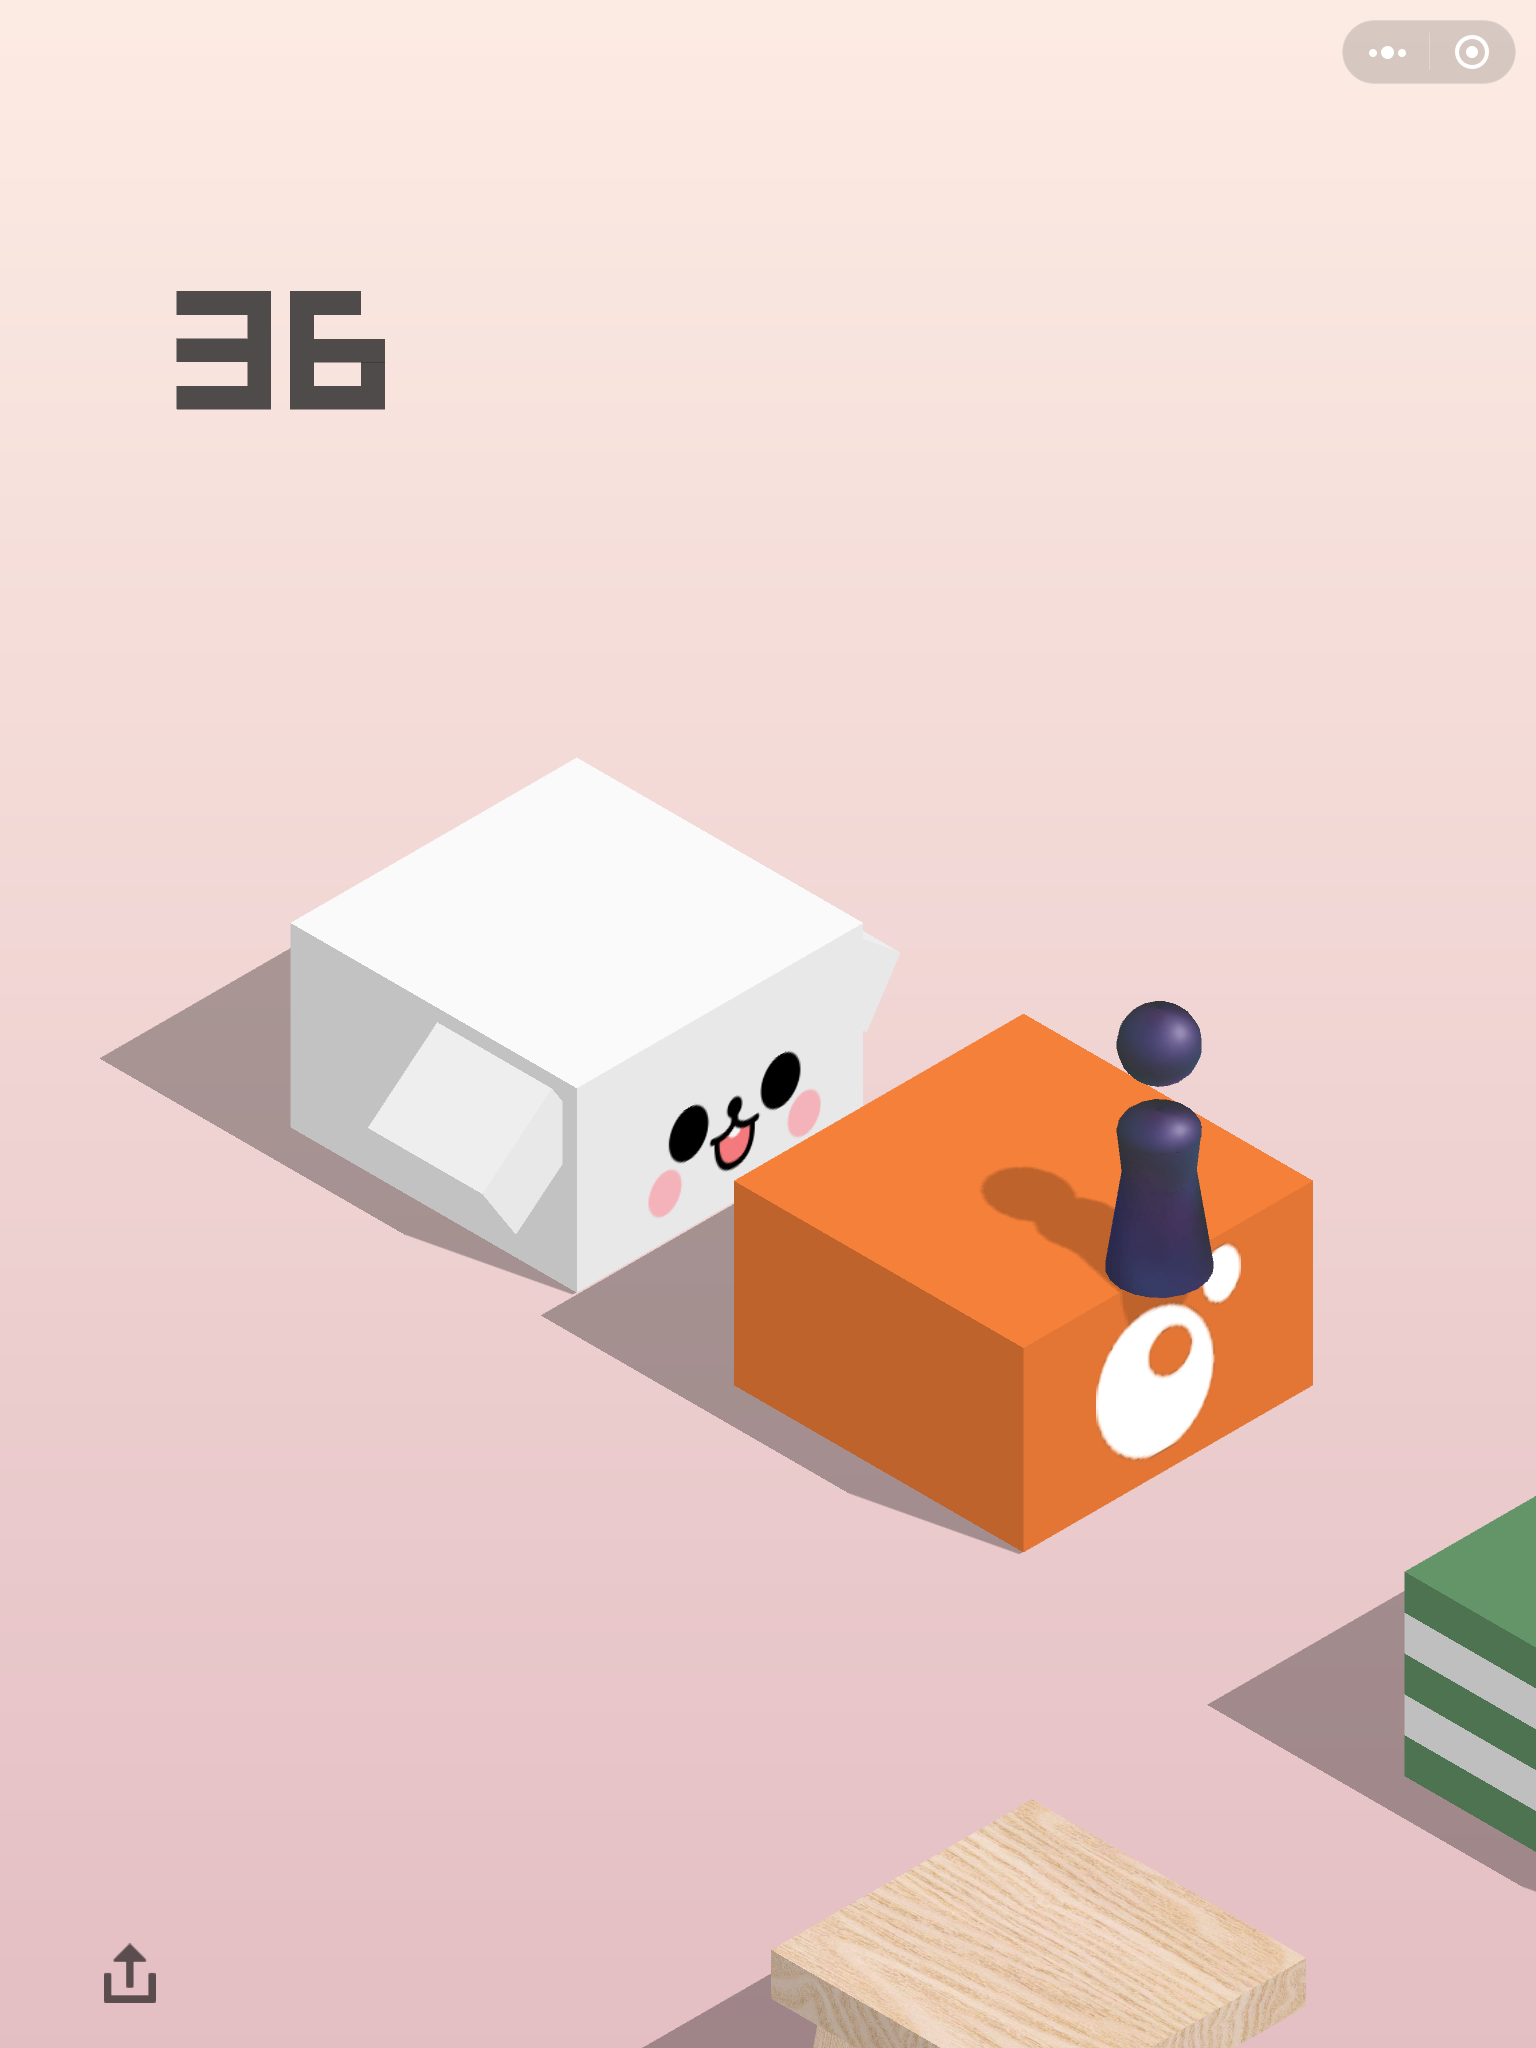f: (281, 748, 902, 1306), (723, 987, 1320, 1563), (770, 1796, 1313, 2048)
r: (1104, 992, 1218, 1303)
